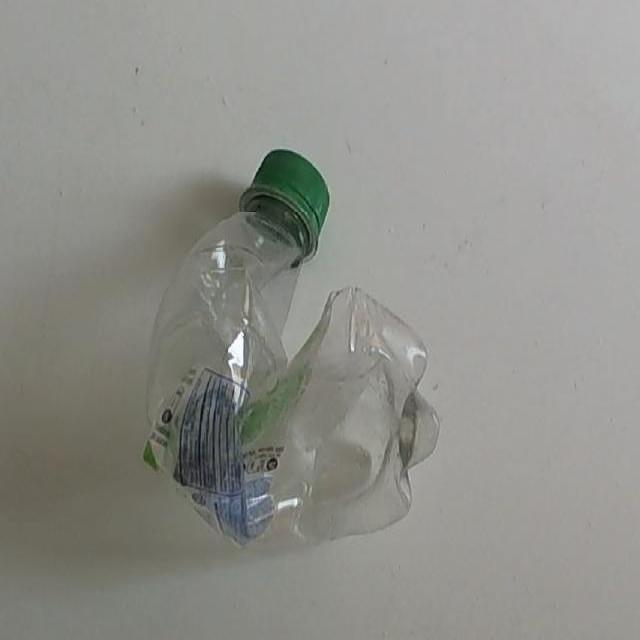defect: (139, 143, 444, 559)
